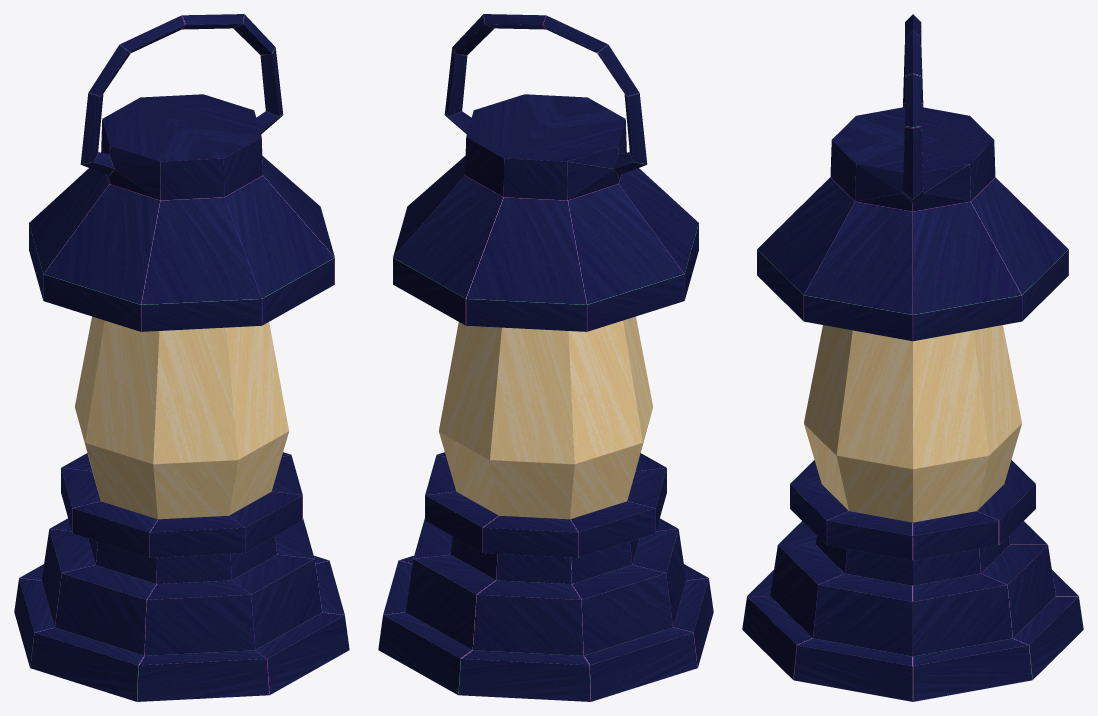
File: lightLamp.fbx
The picture shows the model from 3 angles, left to right: view 1: azimuth 30°, elevation 25°; view 2: azimuth 150°, elevation 25°; view 3: azimuth 270°, elevation 25°; orthographic projection. The views are drawn at different scales.
Parts seen in each view (by area): view 1: lamp; view 2: lamp; view 3: lamp.
Boxes of the visible parts, left/top/right/bottom form: lamp: left=14, top=14, right=349, bottom=701; lamp: left=378, top=14, right=713, bottom=701; lamp: left=742, top=14, right=1083, bottom=701.
Bounding box in the file's own units: 165 × 319 × 165.
